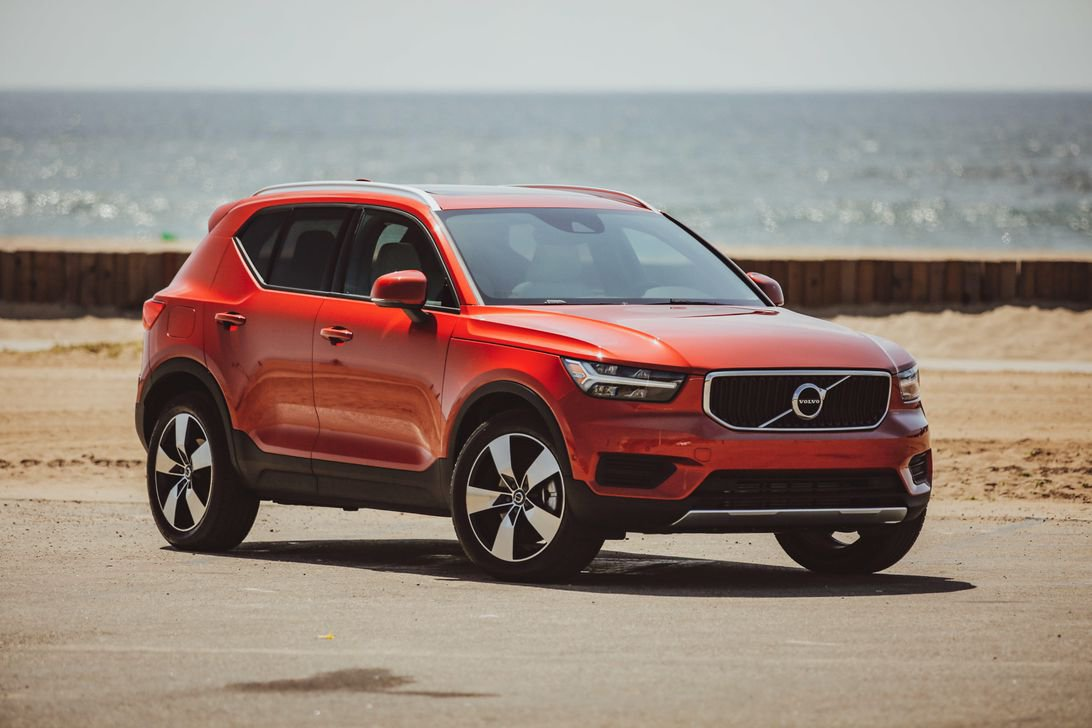car: (134, 171, 934, 605)
